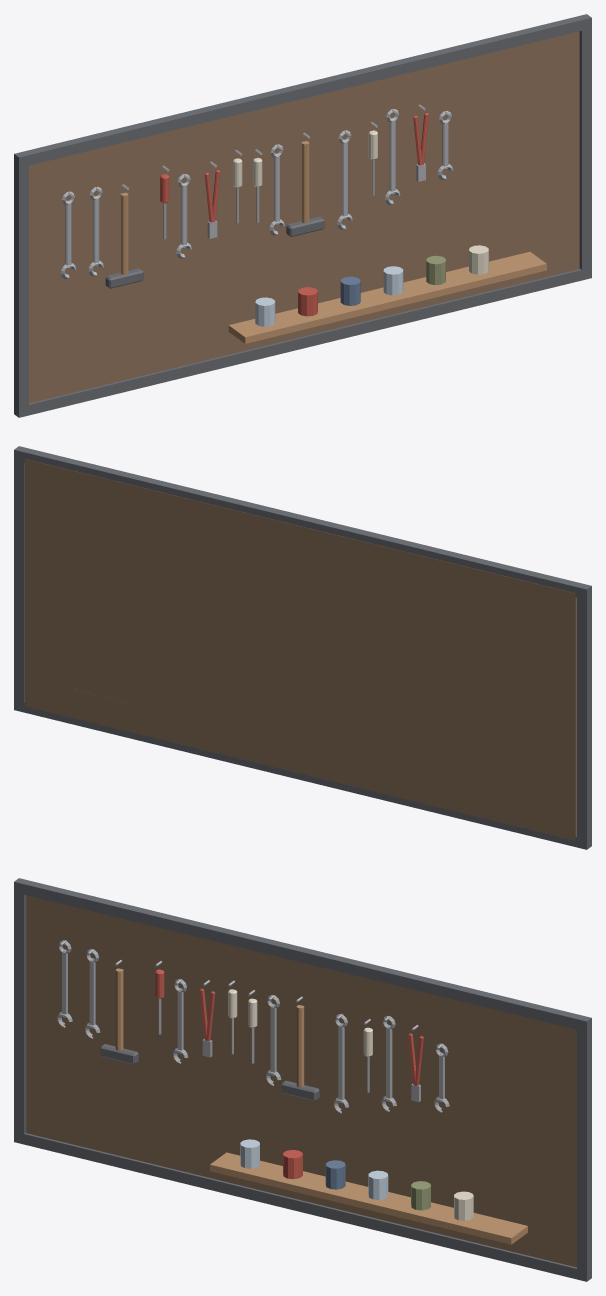
File: Garage_Pegboard.glb
3 views of the same model, one above another, from view 1: azimuth 30°, elevation 25°; view 2: azimuth 150°, elevation 25°; view 3: azimuth 330°, elevation 25° (orthographic).
Visible parts, largest first — view 1: Garage_Pegboard; view 2: Garage_Pegboard; view 3: Garage_Pegboard.
Part boxes in pixels (left/top/right/bottom): Garage_Pegboard: left=14, top=14, right=591, bottom=417; Garage_Pegboard: left=14, top=446, right=591, bottom=849; Garage_Pegboard: left=14, top=878, right=591, bottom=1281.
Size of the model in its own units: 2.28 by 0.99 by 0.14.
